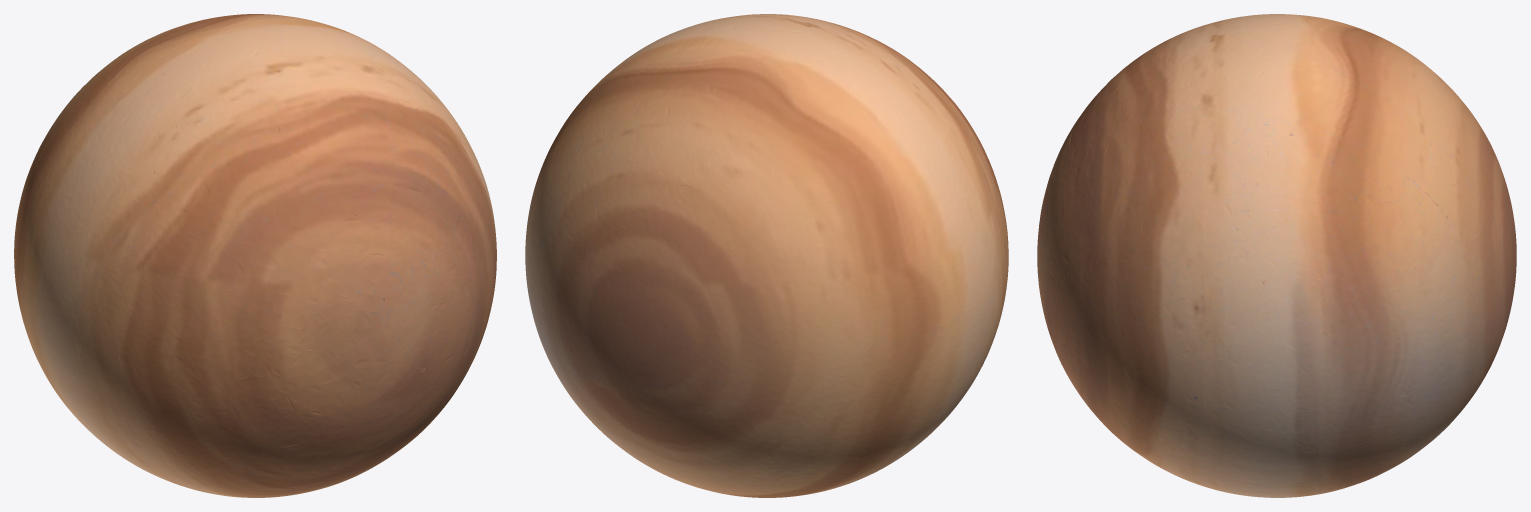
The model's file is planet_9.glb.
3 renders of one model, left to right at view 1: azimuth 30°, elevation 25°; view 2: azimuth 150°, elevation 25°; view 3: azimuth 270°, elevation 25°, orthographic.
Visible parts, largest first — view 1: geometry_0; view 2: geometry_0; view 3: geometry_0.
Boxes of the visible parts, x1,y1,x2,y2 form: geometry_0: (14, 14, 496, 497); geometry_0: (525, 14, 1008, 497); geometry_0: (1037, 14, 1516, 497).
Bounding box in the file's own units: 0.2472 × 0.2474 × 0.2451.
1 material, 1 textured.
